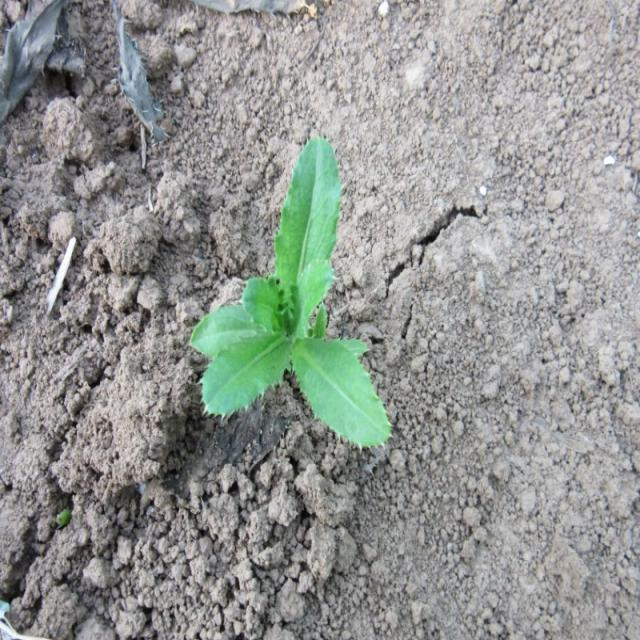cs: (189, 135, 396, 452)
